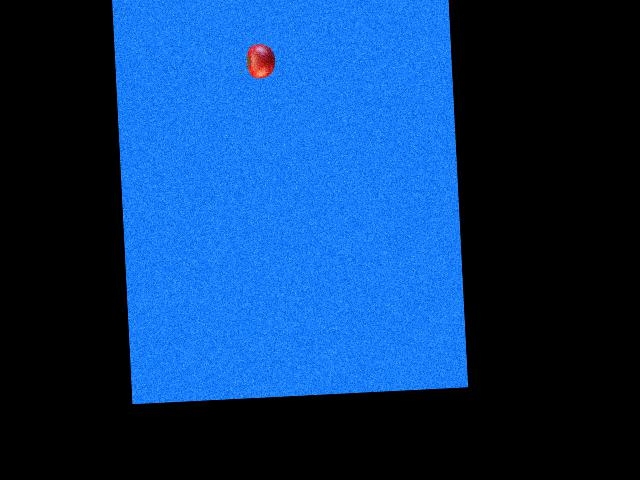tomato: (246, 42, 276, 78)
